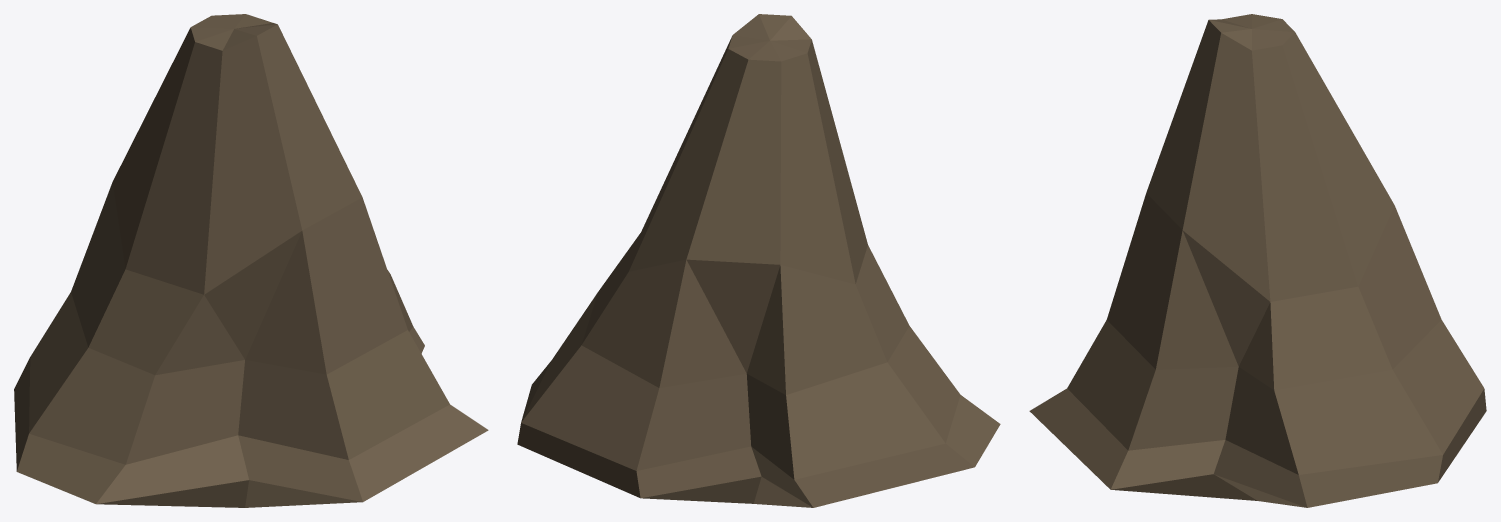
Rendered from SM_Tree_Pine_Base_01.fbx.
3 views of the same model, side by side, from view 1: azimuth 30°, elevation 25°; view 2: azimuth 150°, elevation 25°; view 3: azimuth 270°, elevation 25° (orthographic). The views are drawn at different scales.
Parts seen in each view (by area): view 1: SM_Tree_Pine_Base_01; view 2: SM_Tree_Pine_Base_01; view 3: SM_Tree_Pine_Base_01.
Part boxes in pixels (bbox=[...]): SM_Tree_Pine_Base_01: bbox=[14, 14, 488, 507]; SM_Tree_Pine_Base_01: bbox=[517, 14, 1000, 507]; SM_Tree_Pine_Base_01: bbox=[1029, 14, 1486, 507].
Bounding box in the file's own units: 123 × 133 × 116.
